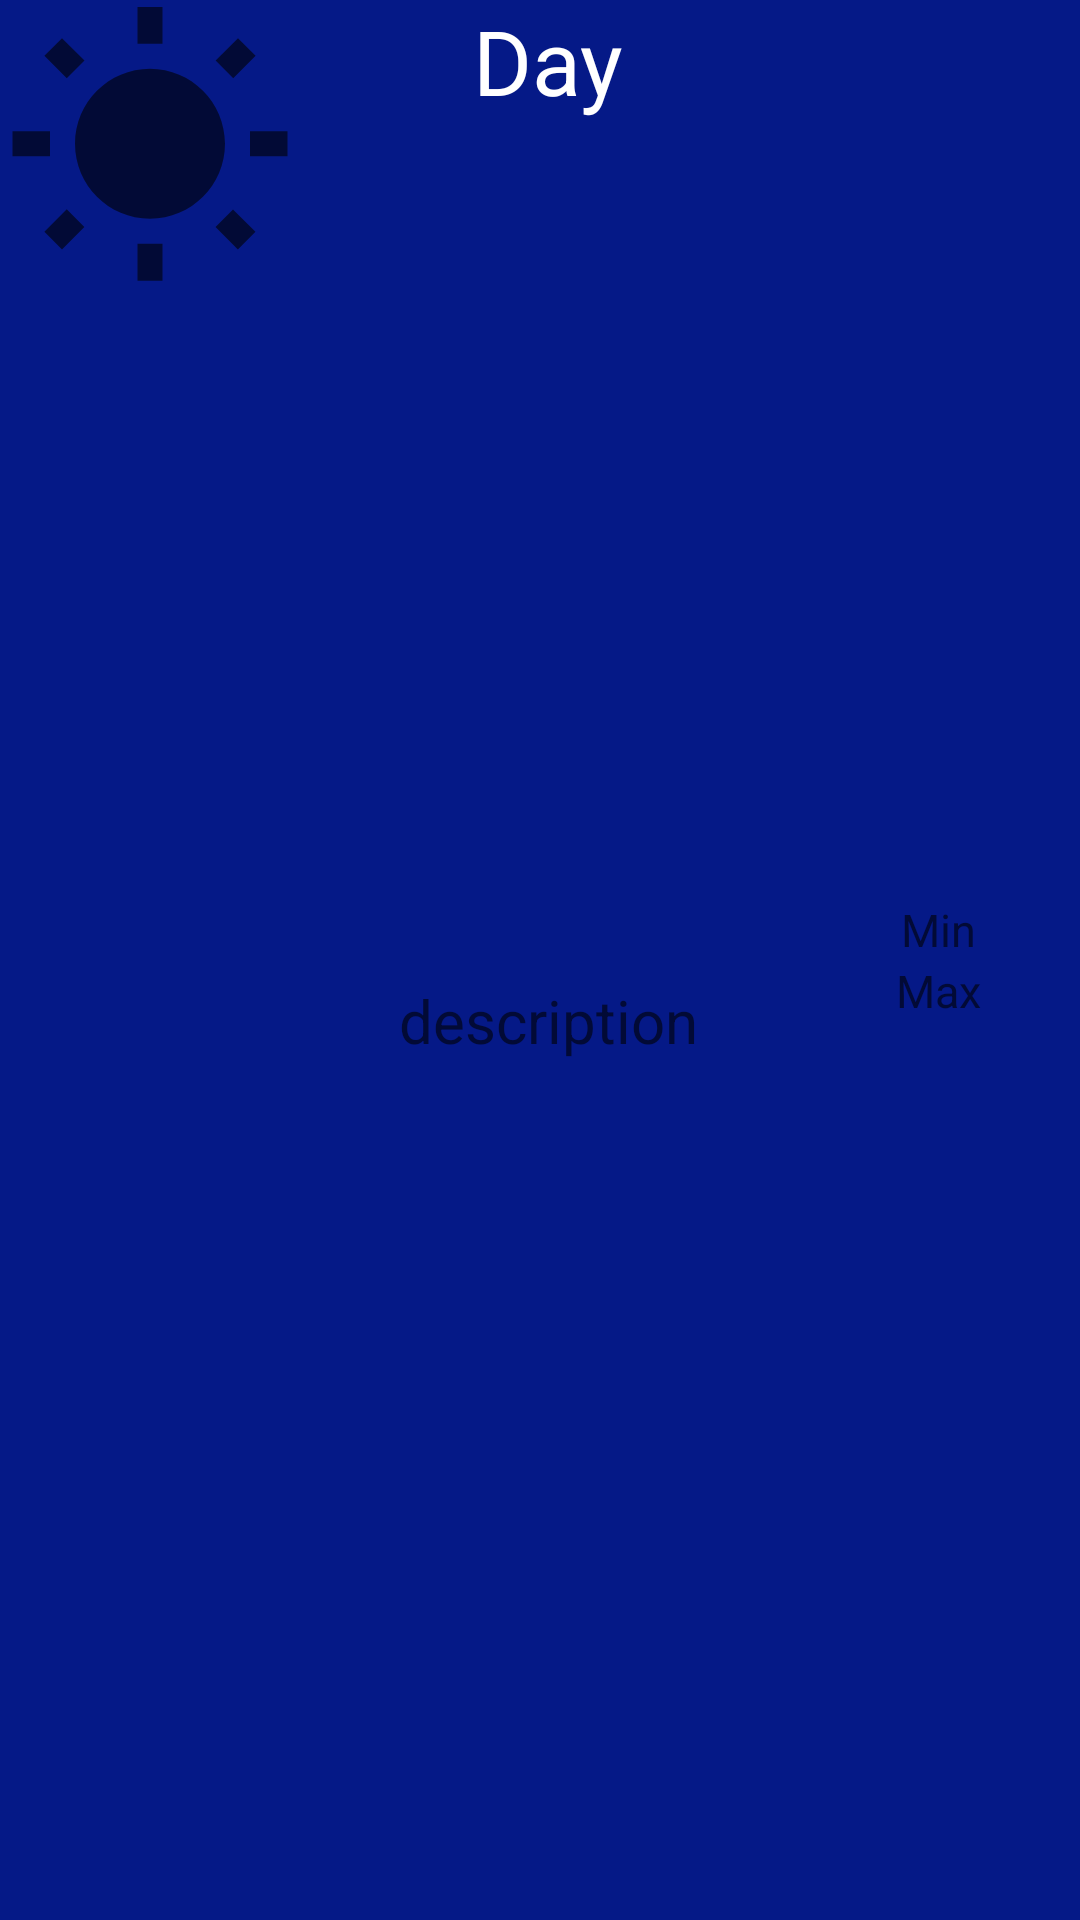

Named icons in this screenshot (1080px x 1920px) and their bounding boxes, (left=x1, top=y1, right=x2, bottom=y2):
sun: (left=12, top=7, right=288, bottom=281)
